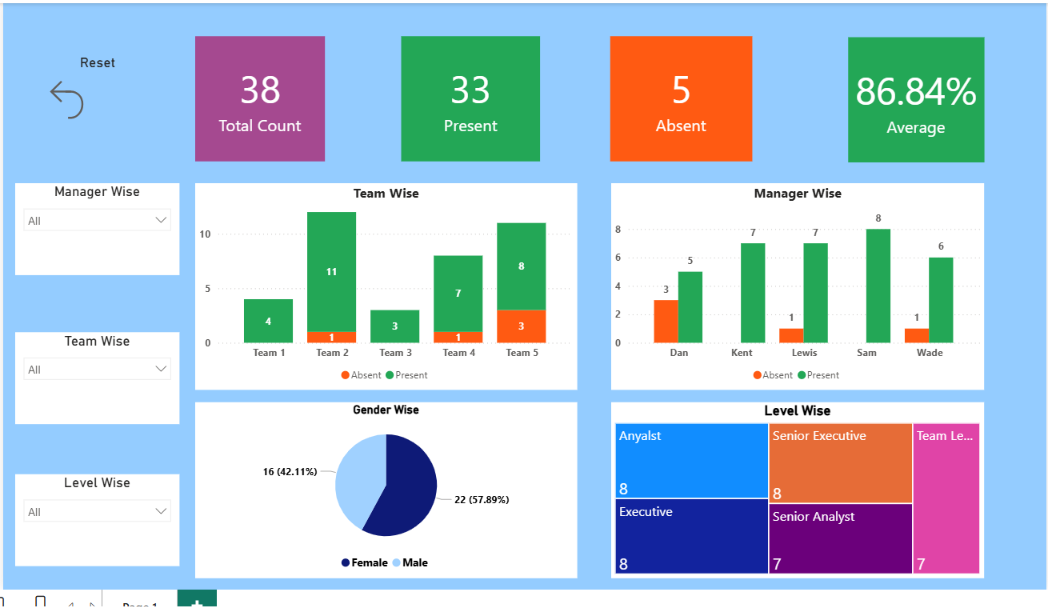

The dashboard page shown, as its layout file describes it:
{"tool":"powerbi","page":{"name":"Page 1","canvas":[1280,720],"ordinal":0},"visuals":[{"type":"card","fields":{"Values":["CountNonNull(Data.Full name)"]},"box":[235.6,40.5,159.5,153.4],"z":0},{"type":"card","fields":{"Values":["CountNonNull(Data.Full name)"]},"box":[488.3,40.5,170.6,153.4],"z":1},{"type":"card","fields":{"Values":["CountNonNull(Data.Full name)"]},"box":[744.8,40.5,174.2,153.4],"z":2},{"type":"card","fields":{"Values":["Avg(Data.Attendance Status)"]},"box":[1036.8,41.7,166.9,153.4],"z":3},{"type":"columnChart","title":"Team Wise","fields":{"Category":["Data.Team"],"Y":["CountNonNull(Data.Full name)"],"Series":["Data.Attendance"]},"box":[235.6,220.9,468.7,254],"z":4},{"type":"clusteredColumnChart","title":"Manager Wise","fields":{"Category":["Data.Senior Manager"],"Y":["CountNonNull(Data.Full name)"],"Series":["Data.Attendance"]},"box":[746,220.9,457.7,254],"z":5},{"type":"pieChart","title":"Gender Wise","fields":{"Category":["Data.Gender"],"Y":["CountNonNull(Data.Full name)"]},"box":[235.6,489.6,468.7,216],"z":6},{"type":"treemap","title":"Level Wise","fields":{"Group":["Data.Job Level"],"Values":["CountNonNull(Data.Senior Manager)"]},"box":[746,489.6,457.7,216],"z":7},{"type":"slicer","title":"Manager Wise","fields":{"Values":["Data.Senior Manager"]},"box":[14.7,220.9,201.2,112.9],"z":8},{"type":"slicer","title":"Team Wise","fields":{"Values":["Data.Name"]},"box":[14.7,403.7,201.2,112.9],"z":9},{"type":"slicer","title":"Level Wise","fields":{"Values":["Data.Job Level"]},"box":[14.7,577.9,201.2,112.9],"z":10},{"type":"actionButton","title":"Reset","box":[47.3,62.6,136.3,86.3],"z":11}]}

Visuals, with their boxes in screenshot pixels (x1, y1, x2, y2):
card - CountNonNull(Data.Full name): (196, 35, 324, 159)
card - CountNonNull(Data.Full name): (400, 35, 537, 159)
card - CountNonNull(Data.Full name): (607, 35, 747, 159)
card - Avg(Data.Attendance Status): (843, 36, 977, 160)
"Team Wise" columnChart: (196, 181, 574, 386)
"Manager Wise" clusteredColumnChart: (608, 181, 977, 386)
"Gender Wise" pieChart: (196, 398, 574, 572)
"Level Wise" treemap: (608, 398, 977, 572)
"Manager Wise" slicer: (17, 181, 180, 272)
"Team Wise" slicer: (17, 329, 180, 420)
"Level Wise" slicer: (17, 469, 180, 561)
"Reset" actionButton: (44, 53, 154, 123)
